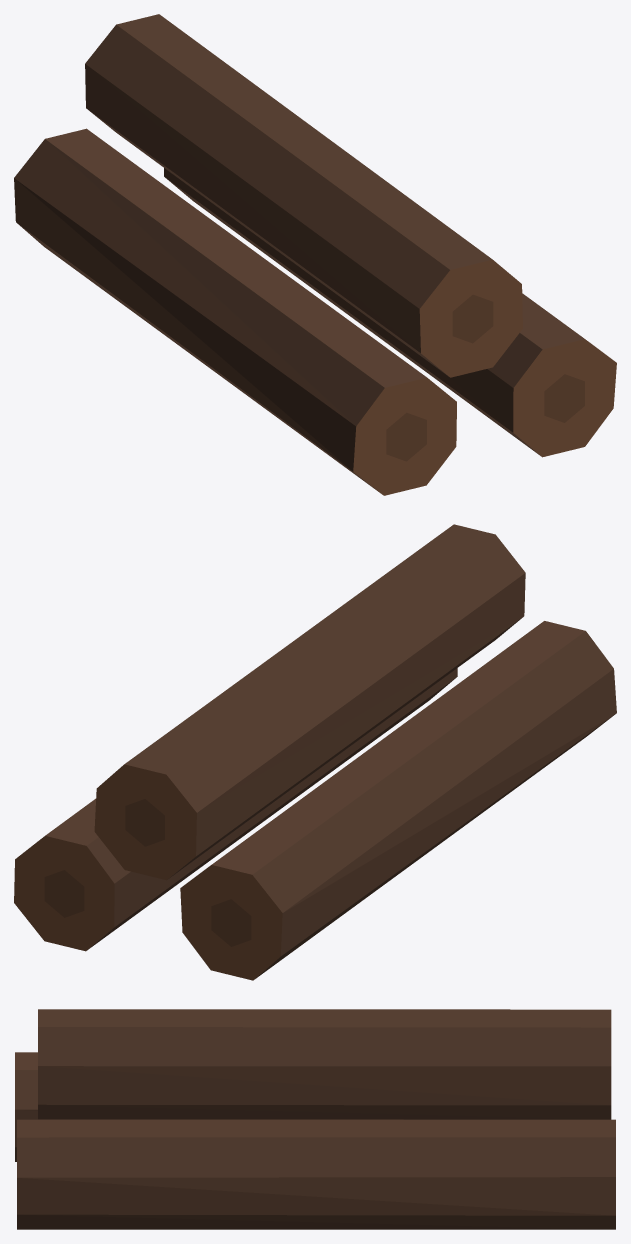
File: lumber.glb
3 renders of one model, top to bottom at view 1: azimuth 30°, elevation 25°; view 2: azimuth 150°, elevation 25°; view 3: azimuth 270°, elevation 25°, orthographic. The views are drawn at different scales.
Parts seen in each view (by area): view 1: lit; view 2: lit; view 3: lit.
Part boxes in pixels (x1=…): lit: x1=14, y1=14, x2=616, y2=495; lit: x1=14, y1=524, x2=616, y2=980; lit: x1=15, y1=1009, x2=615, y2=1229.
Size of the model in its own units: 0.9979 by 0.7122 by 2.3.
